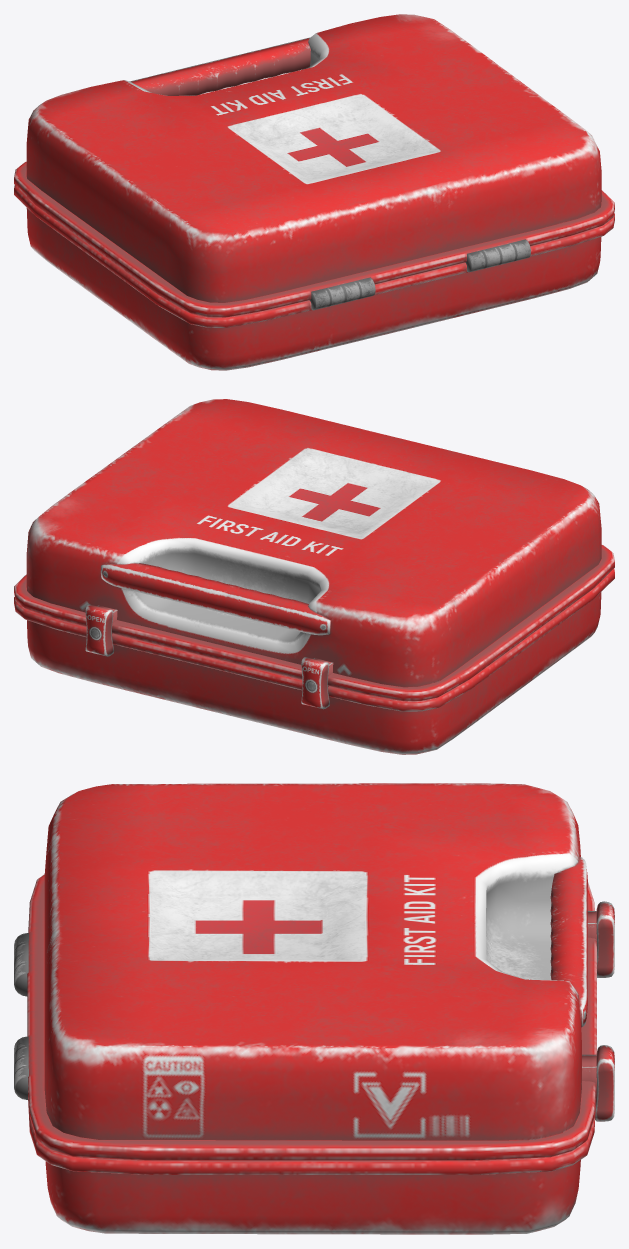
File: GenericProp-FirstAidKit.fbx
The picture shows the model from 3 angles, top to bottom: view 1: azimuth 30°, elevation 25°; view 2: azimuth 150°, elevation 25°; view 3: azimuth 270°, elevation 25°; orthographic projection. The views are drawn at different scales.
Parts seen in each view (by area): view 1: fIRSTaIDbOX; view 2: fIRSTaIDbOX; view 3: fIRSTaIDbOX.
Part boxes in pixels (x1,y1,x2,y2): fIRSTaIDbOX: (14,14,614,370); fIRSTaIDbOX: (14,399,614,754); fIRSTaIDbOX: (14,783,614,1234).
Bounding box in the file's own units: 62.85 × 18.99 × 55.01.
